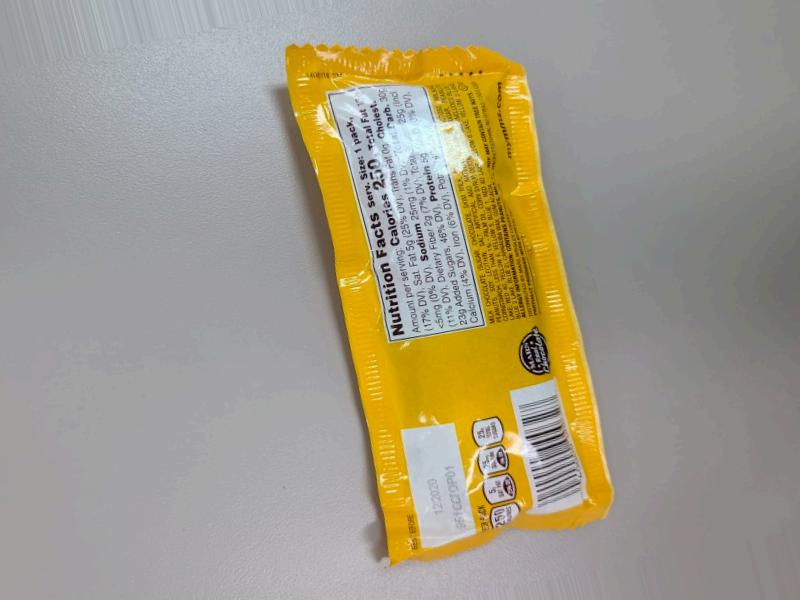m&m: (367, 45, 622, 586)
